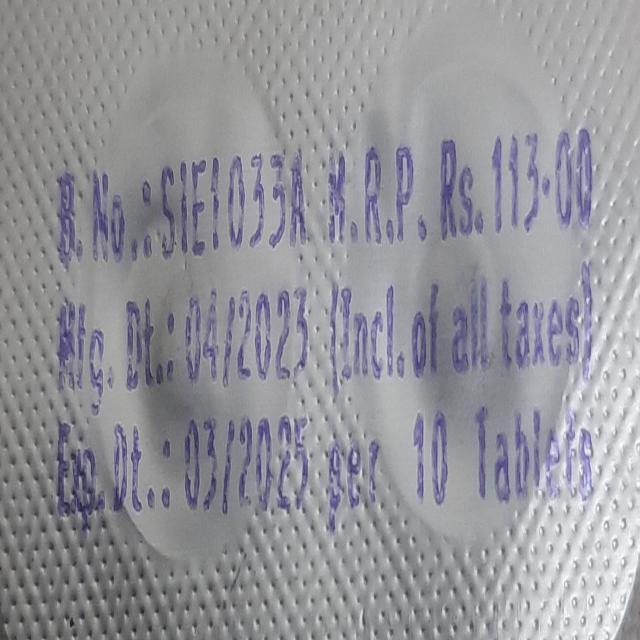sentence: (58, 127, 592, 265), (58, 274, 591, 412), (56, 407, 592, 534)
